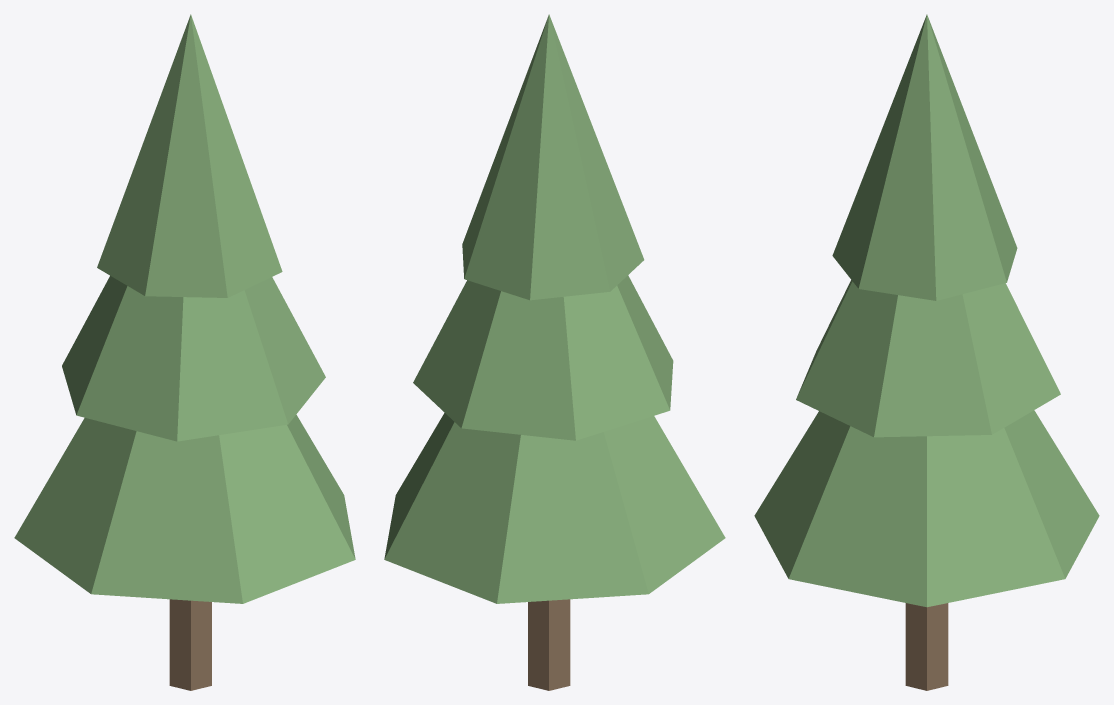
The model's file is test_tree.glb.
3 views of the same model, side by side, from view 1: azimuth 30°, elevation 25°; view 2: azimuth 150°, elevation 25°; view 3: azimuth 270°, elevation 25° (orthographic).
Parts seen in each view (by area): view 1: test_tree; view 2: test_tree; view 3: test_tree.
Boxes of the visible parts, box(x1,y1,x2,y2) form: test_tree: box(14, 14, 355, 690); test_tree: box(384, 14, 725, 690); test_tree: box(754, 14, 1099, 690).
Bounding box in the file's own units: 2.47 × 5.4 × 2.53.
